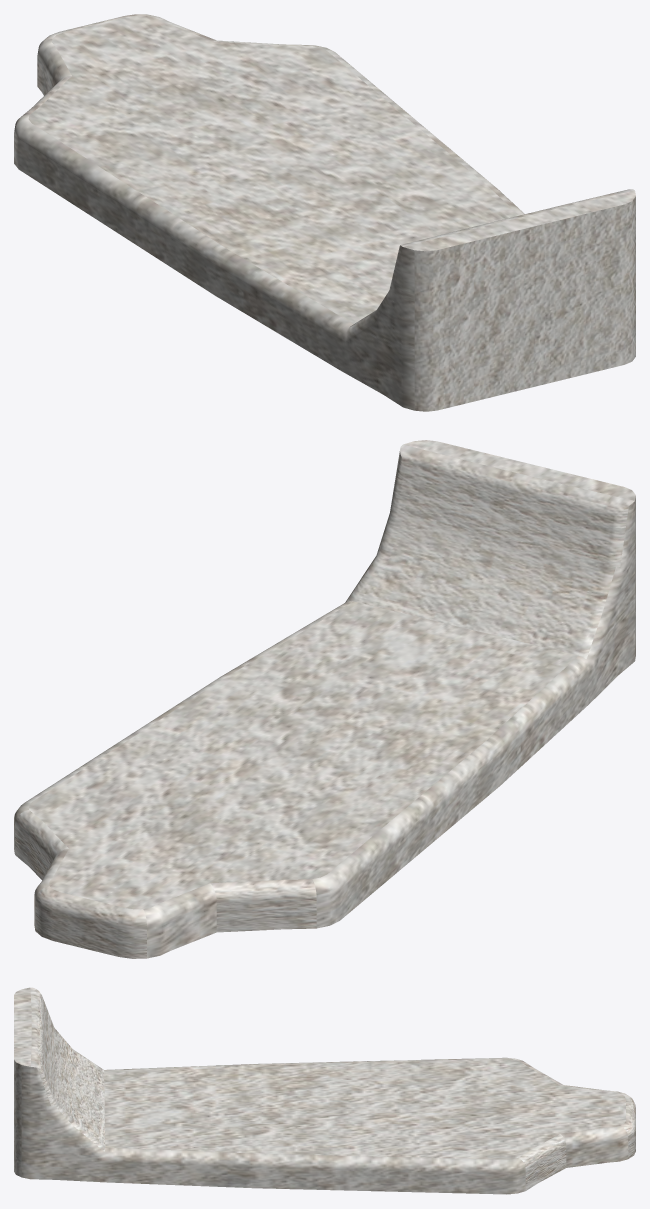
File: Coffin Lid.fbx
3 views of the same model, one above another, from view 1: azimuth 30°, elevation 25°; view 2: azimuth 150°, elevation 25°; view 3: azimuth 270°, elevation 25° (orthographic). The views are drawn at different scales.
Visible parts, largest first — view 1: Coffin_Lid; view 2: Coffin_Lid; view 3: Coffin_Lid.
Part boxes in pixels (left/top/right/bottom): Coffin_Lid: left=14, top=14, right=635, bottom=411; Coffin_Lid: left=14, top=440, right=635, bottom=958; Coffin_Lid: left=14, top=987, right=635, bottom=1194.
Size of the model in its own units: 100 by 47.78 by 239.
1 material, 1 textured.
